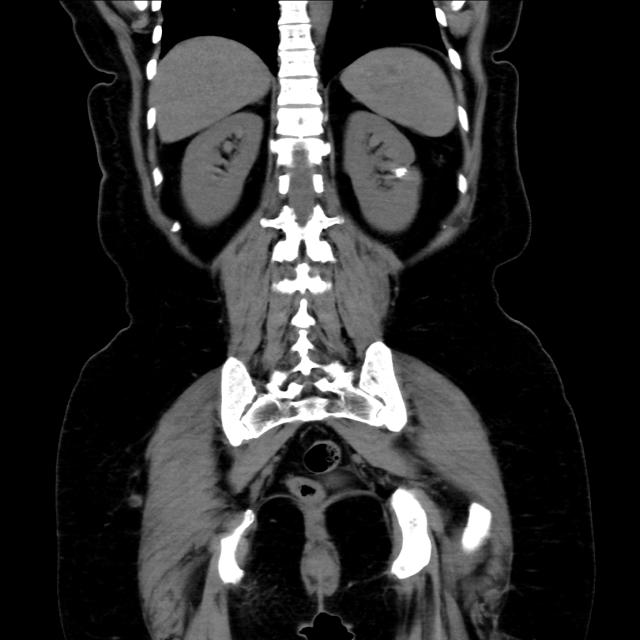kidneystone: (395, 168, 408, 178)
